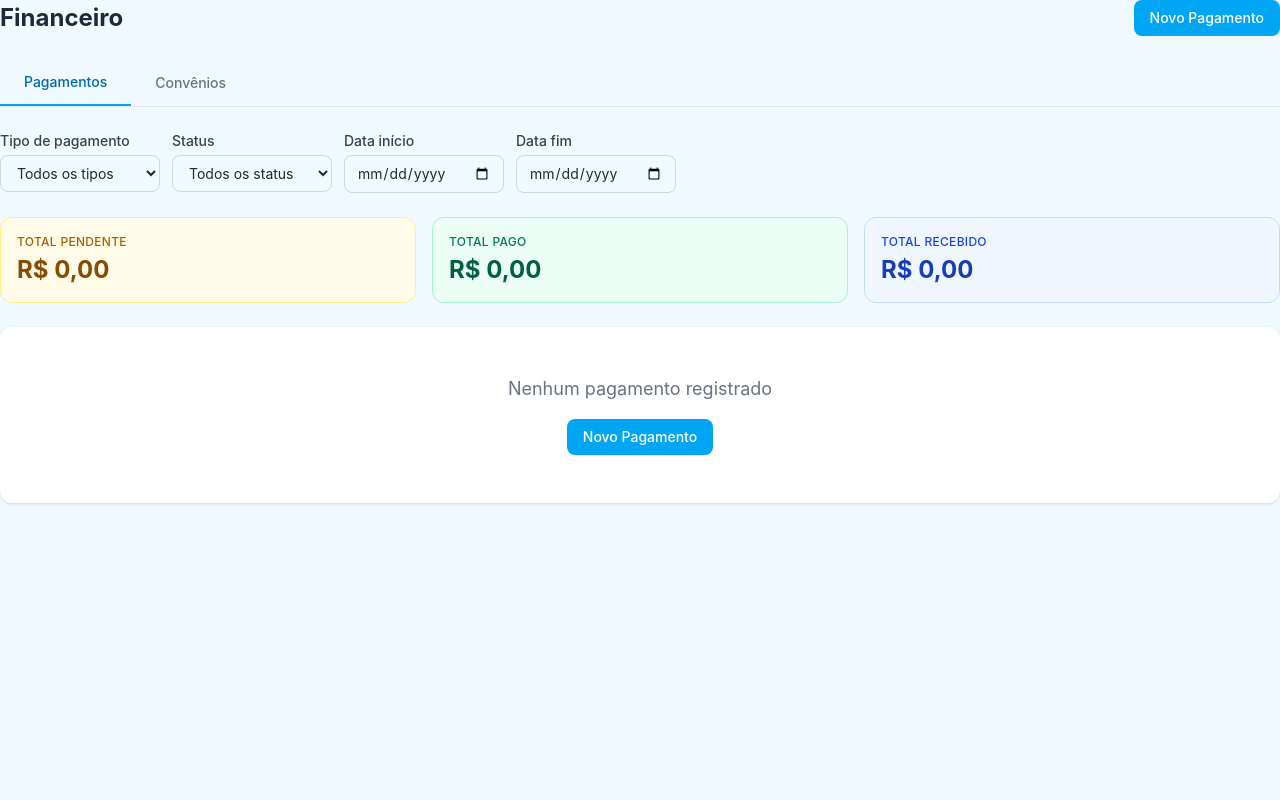
Test: PaymentForm — conditional rendering › switches to Convenio fields when payment type changes
Click the button "Novo Pagamento" in the row of "Financeiro": (1207, 18) [1134,0,1279,36]
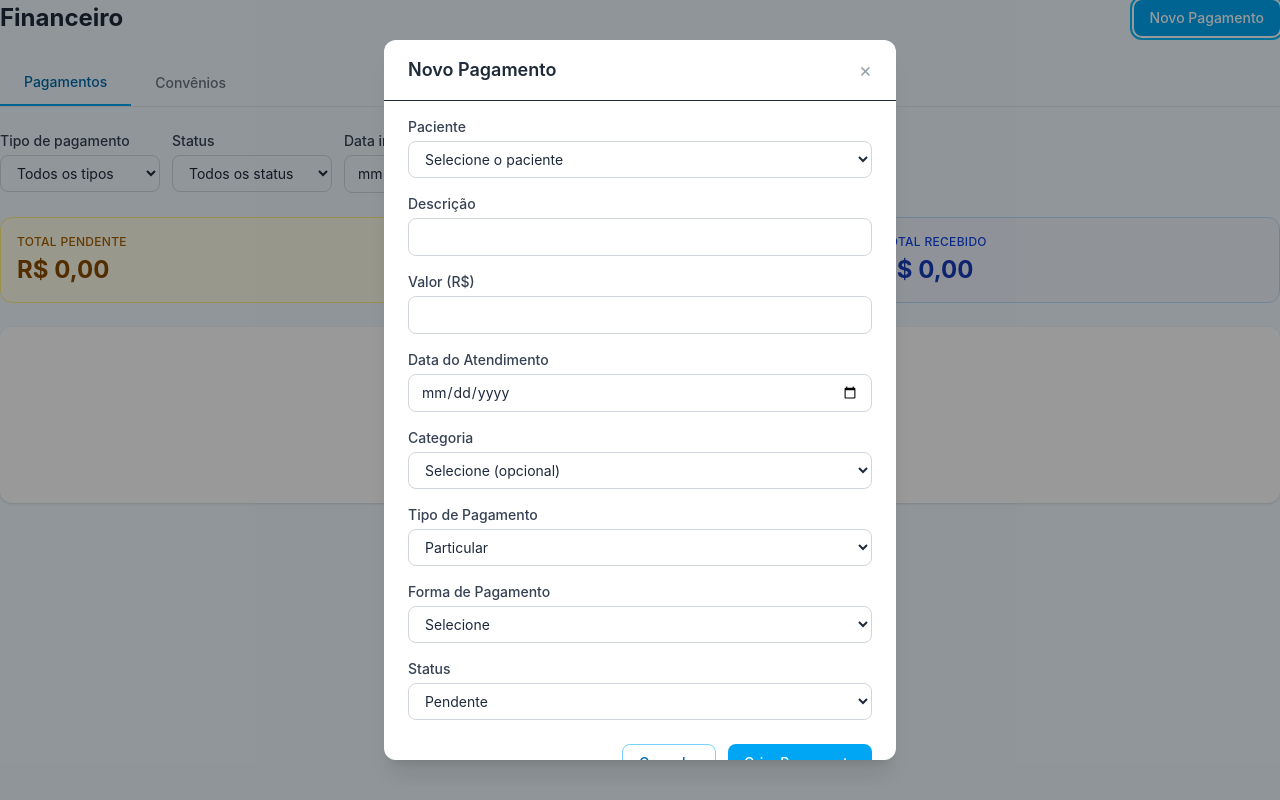
Select "Convênio" in the dropdown labelled "Tipo de Pagamento": (640, 548) [408,529,872,566]
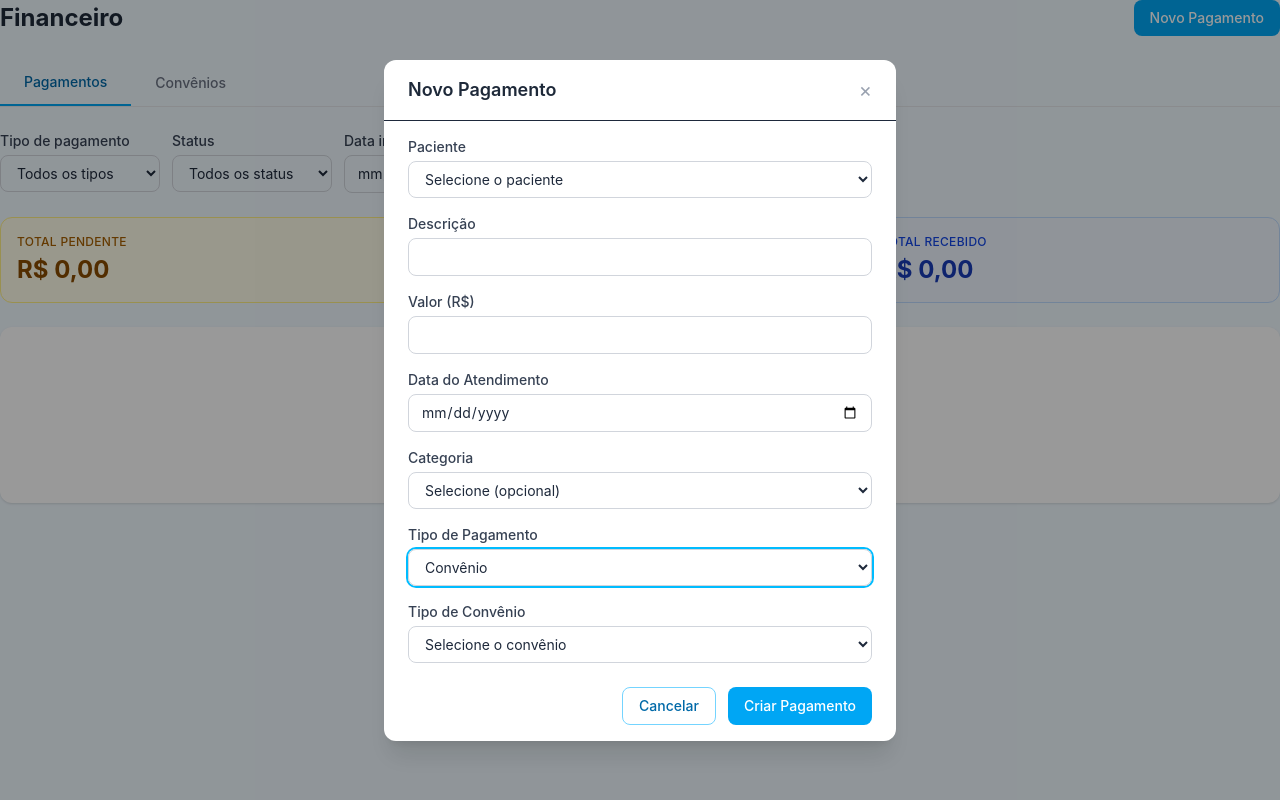
Now the dropdown labelled "Tipo de Convênio" is shown, box [408,626,872,662]
Now the label labelled "Forma de Pagamento" is gone
